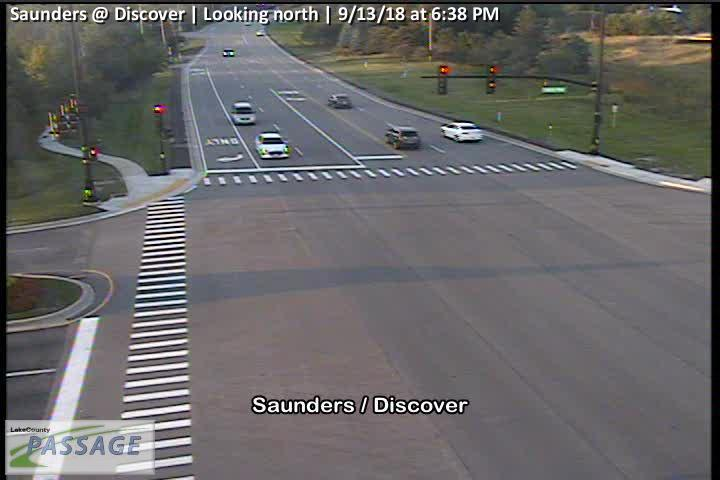Sedan: (440, 120, 483, 142), (254, 132, 289, 158), (384, 124, 419, 148), (229, 100, 255, 125), (328, 92, 350, 108)
